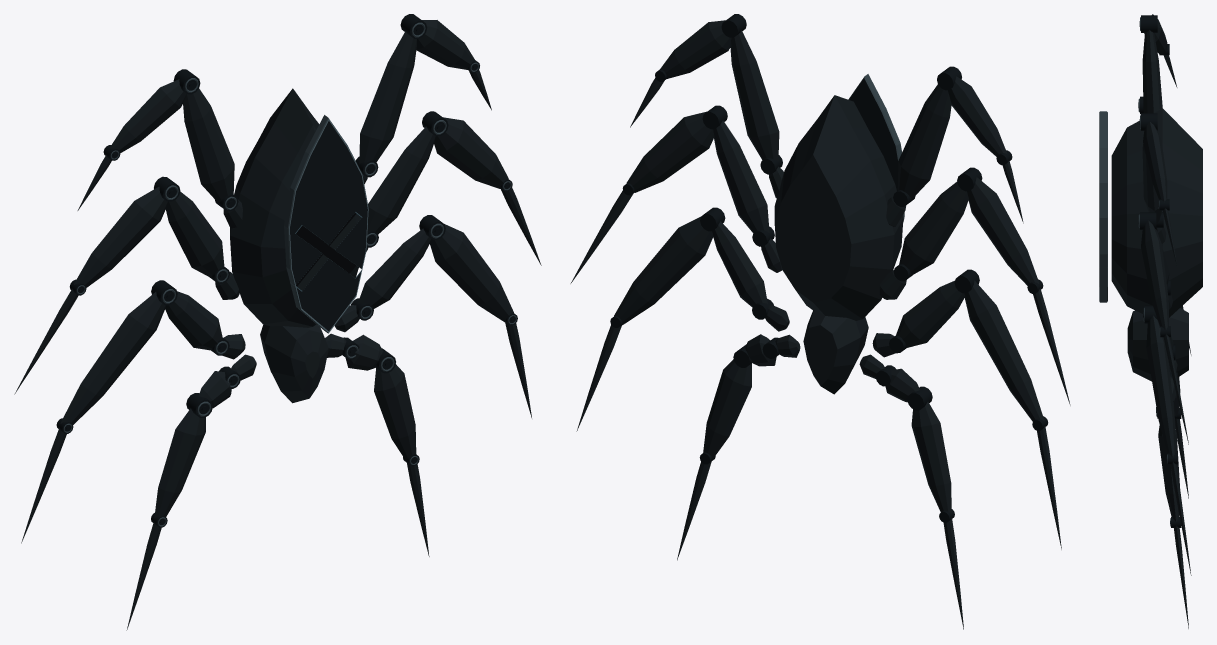
The model's file is xeven-spider.glb.
3 views of the same model, side by side, from view 1: azimuth 30°, elevation 25°; view 2: azimuth 150°, elevation 25°; view 3: azimuth 270°, elevation 25° (orthographic). The views are drawn at different scales.
Visible parts, largest first — view 1: abdomen-hull, abdomen-shield-with-real-x-cavity, leg-left-lower-tibia, head-hull, leg-right-upper-femur, leg-right-lower-tibia, leg-left-upper-femur, leg-left-middle-tibia, leg-right-middle-femur, leg-left-middle-femur, leg-right-middle-tibia, leg-left-bottom-tibia (+10 smaller); view 2: abdomen-hull, leg-right-lower-tibia, head-hull, leg-left-lower-tibia, leg-right-upper-femur, leg-left-upper-femur, leg-right-middle-tibia, leg-left-middle-femur, leg-left-middle-tibia, leg-right-middle-femur, leg-right-bottom-tibia, leg-left-bottom-tibia (+12 smaller); view 3: abdomen-hull, leg-right-lower-tibia, head-hull, leg-right-middle-tibia, abdomen-shield-with-real-x-cavity, leg-left-upper-femur, leg-right-upper-tibia, leg-right-bottom-tibia, leg-right-upper-femur, leg-right-lower-needle, leg-right-middle-needle, leg-right-bottom-needle (+7 smaller).
Boxes of the visible parts, <box> form: abdomen-hull: <box>230,88,361,327</box>; abdomen-shield-with-real-x-cavity: <box>284,115,368,333</box>; leg-left-lower-tibia: <box>60,292,166,424</box>; head-hull: <box>260,324,328,403</box>; leg-right-upper-femur: <box>359,31,416,164</box>; leg-right-lower-tibia: <box>429,224,513,322</box>; leg-left-upper-femur: <box>183,88,234,203</box>; leg-left-middle-tibia: <box>74,186,167,287</box>; leg-right-middle-femur: <box>367,126,435,234</box>; leg-left-middle-femur: <box>166,191,224,277</box>; leg-right-middle-tibia: <box>434,117,508,188</box>; leg-left-bottom-tibia: <box>154,408,205,518</box>; abdomen-hull: <box>774,95,903,320</box>; leg-right-lower-tibia: <box>614,216,712,324</box>; head-hull: <box>803,310,868,394</box>; leg-left-lower-tibia: <box>964,280,1044,421</box>; leg-right-upper-femur: <box>730,30,779,161</box>; leg-left-upper-femur: <box>897,84,951,199</box>; leg-right-middle-tibia: <box>626,111,713,192</box>; leg-left-middle-femur: <box>899,181,968,275</box>; leg-left-middle-tibia: <box>967,177,1039,285</box>; leg-right-middle-femur: <box>713,120,769,233</box>; leg-right-bottom-tibia: <box>703,359,751,458</box>; leg-left-bottom-tibia: <box>911,401,951,513</box>; abdomen-hull: <box>1111,108,1202,317</box>; leg-right-lower-tibia: <box>1146,315,1175,457</box>; head-hull: <box>1127,308,1188,381</box>; leg-right-middle-tibia: <box>1141,220,1168,329</box>; abdomen-shield-with-real-x-cavity: <box>1099,111,1107,302</box>; leg-left-upper-femur: <box>1142,30,1162,113</box>; leg-right-upper-tibia: <box>1143,122,1167,202</box>; leg-right-bottom-tibia: <box>1158,425,1179,522</box>; leg-right-upper-femur: <box>1142,144,1161,224</box>; leg-right-lower-needle: <box>1170,462,1191,575</box>; leg-right-middle-needle: <box>1163,334,1188,444</box>; leg-right-bottom-needle: <box>1174,525,1188,628</box>.
Bounding box in the file's own units: 4.6 × 4.72 × 0.887.
